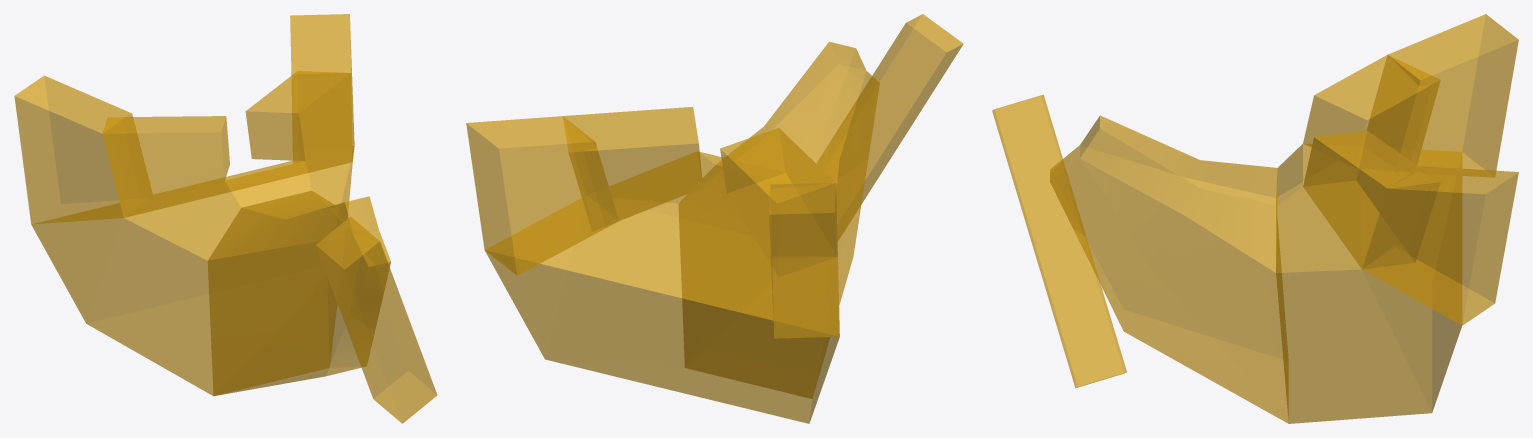
Rendered from SM_Veh_Ship_M_Figurehead_02_Collision.fbx.
3 views of the same model, side by side, from view 1: azimuth 30°, elevation 25°; view 2: azimuth 150°, elevation 25°; view 3: azimuth 270°, elevation 25° (orthographic). The views are drawn at different scales.
Visible parts, largest first — view 1: SM_Veh_Ship_M_Figurehead_02_Collision; view 2: SM_Veh_Ship_M_Figurehead_02_Collision; view 3: SM_Veh_Ship_M_Figurehead_02_Collision.
Part boxes in pixels (x1,y1,x2,y2): SM_Veh_Ship_M_Figurehead_02_Collision: (14, 14, 437, 423); SM_Veh_Ship_M_Figurehead_02_Collision: (466, 14, 963, 423); SM_Veh_Ship_M_Figurehead_02_Collision: (992, 14, 1518, 423).
Bounding box in the file's own units: 593 × 442 × 732.
